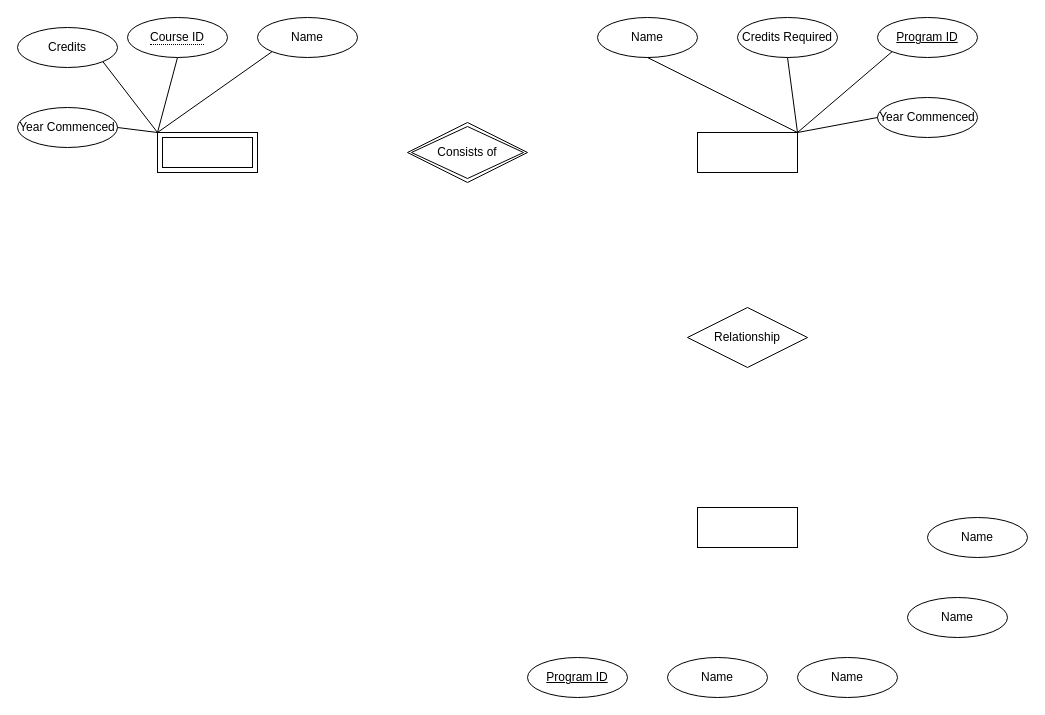
The diagram is 1045 pixels wide and 715 high, and some of its shapes have lost their labels. The shapes that lost their labels are listed below. From the top down, each one's centre as x and y in pixels, then its label:
At (207,152): "Course".
At (747,152): "Program".
At (747,527): "Student".
